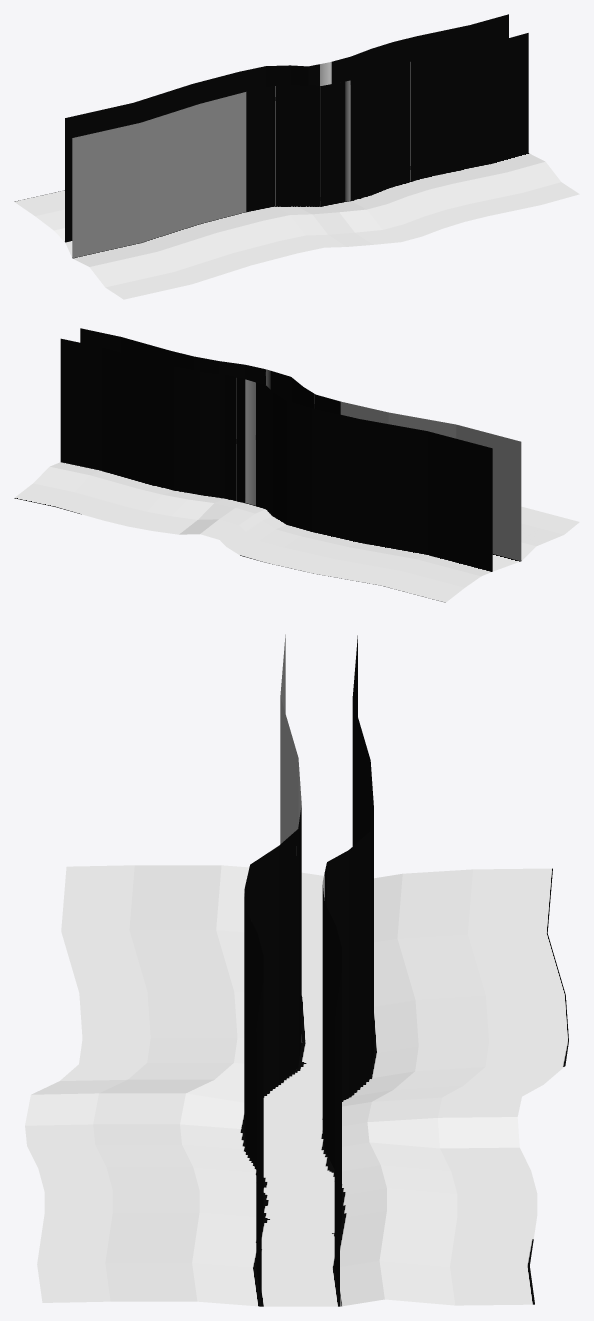
File: Area1Mesh.fbx
The picture shows the model from 3 angles, top to bottom: view 1: azimuth 30°, elevation 25°; view 2: azimuth 150°, elevation 25°; view 3: azimuth 270°, elevation 25°; orthographic projection. The views are drawn at different scales.
Visible parts, largest first — view 1: Wall 1, Plane, Wall 2; view 2: Wall 2, Plane, Wall 1; view 3: Plane, Path, Wall 1, Wall 2.
Boxes of the visible parts, <box> form: Wall 1: <box>72,33,528,258</box>; Plane: <box>14,153,579,299</box>; Wall 2: <box>65,14,508,242</box>; Wall 2: <box>60,338,492,571</box>; Plane: <box>14,462,579,602</box>; Wall 1: <box>80,328,521,560</box>; Plane: <box>25,865,568,1306</box>; Path: <box>261,872,339,1306</box>; Wall 1: <box>244,634,301,1305</box>; Wall 2: <box>322,635,373,1304</box>.
Bounding box in the file's own units: 9933 × 2586 × 5164.
Materials: 1 (1 with a texture image).
